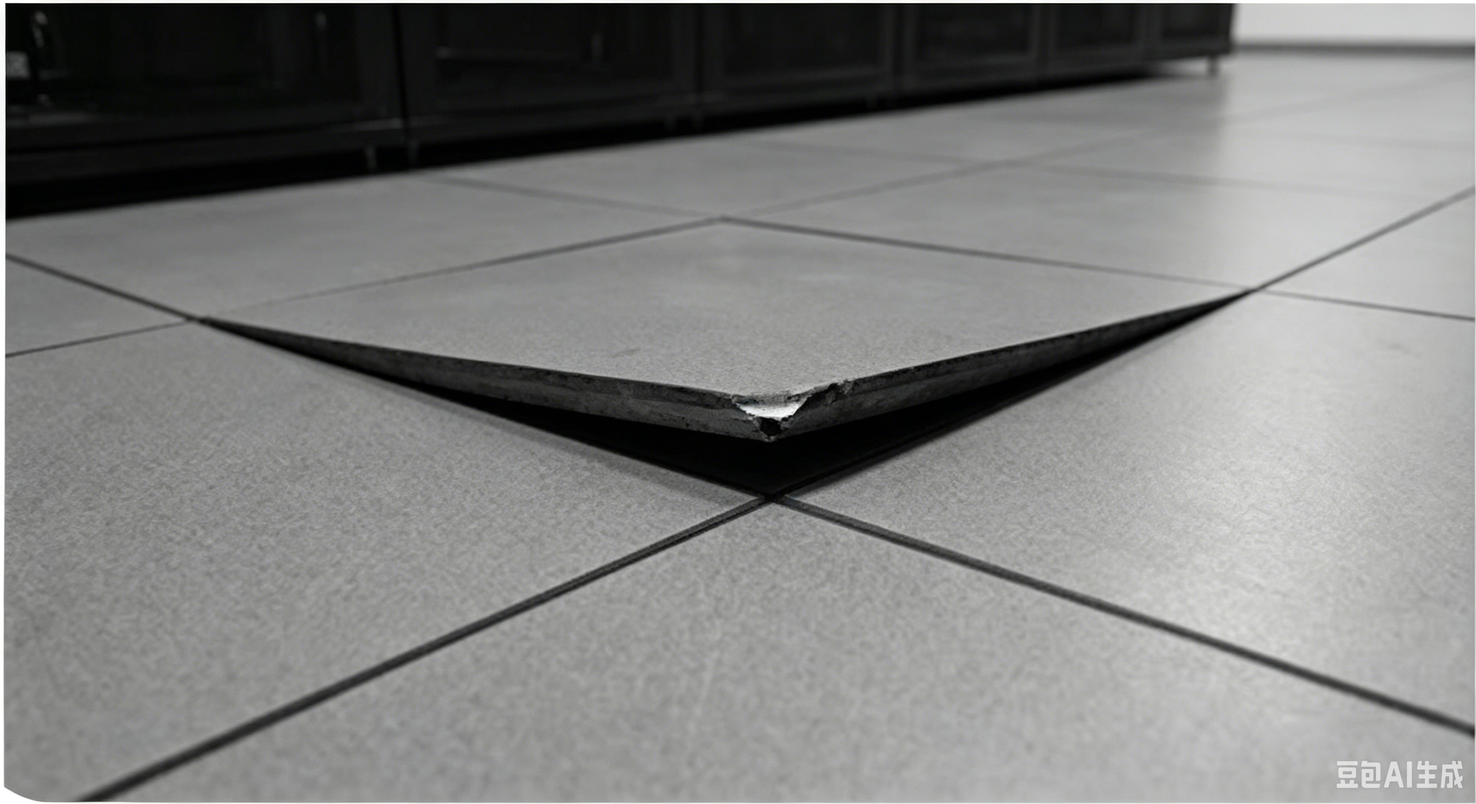floor_defect: (203, 288, 1260, 504)
